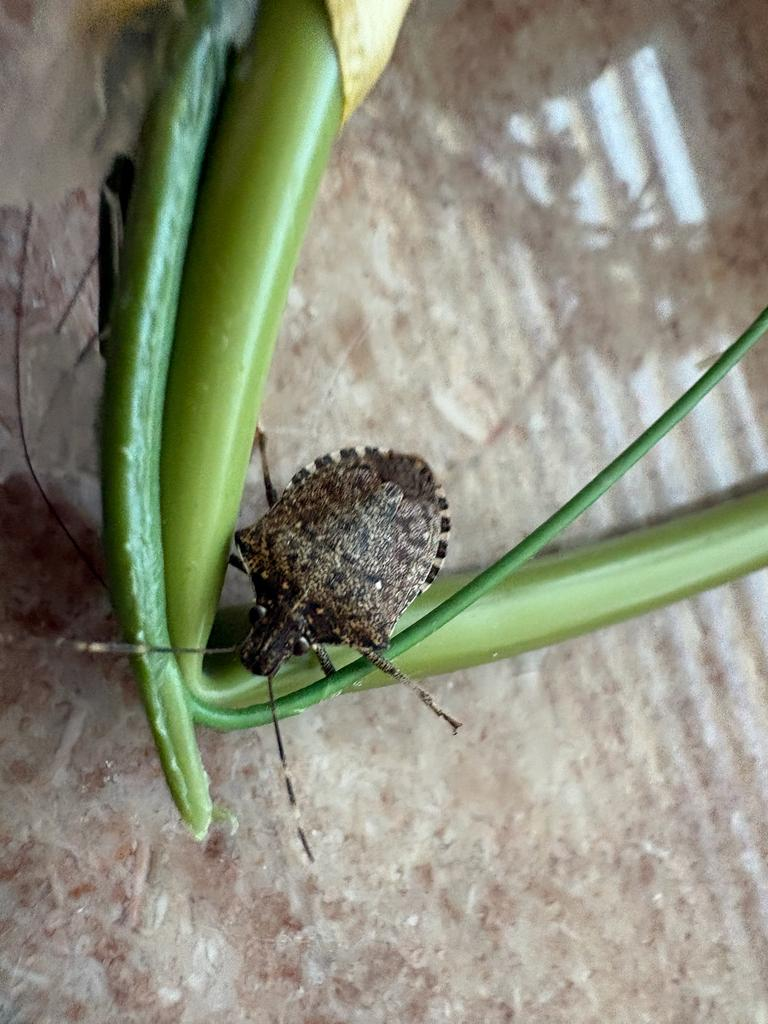stink_bugs: (0, 364, 606, 908)
